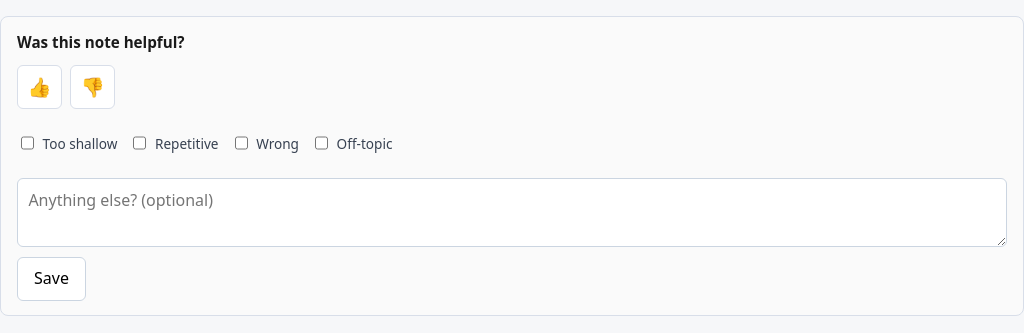
Test: NoteFeedback › saves a thumbs-down rating with a tag and comment
The width and height of the screenshot is (1024, 333).
Step 1. Click the button "👎" → point(93, 86), box [70,64,115,108]
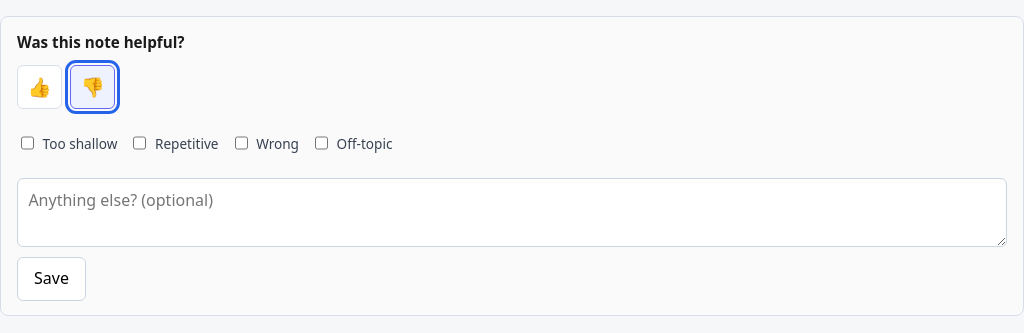
Step 2. Click the checkbox labelled "Too shallow" → point(28, 143), box [21,121,34,165]
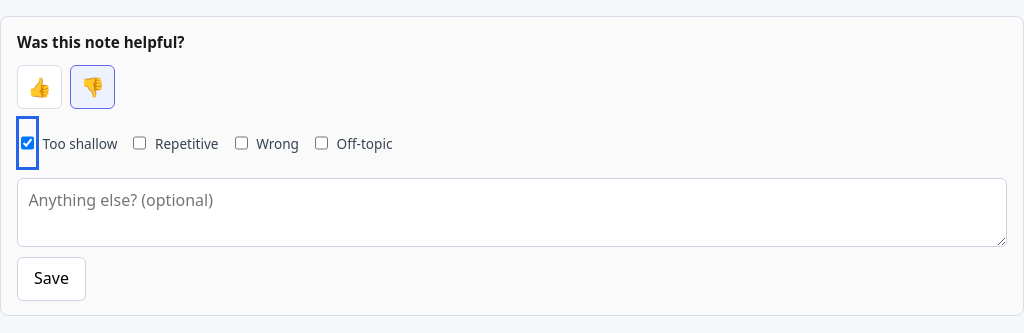
Step 3. Type "needs more depth" into the text box named "feedback comment" → point(512, 212), box [17,178,1007,247]
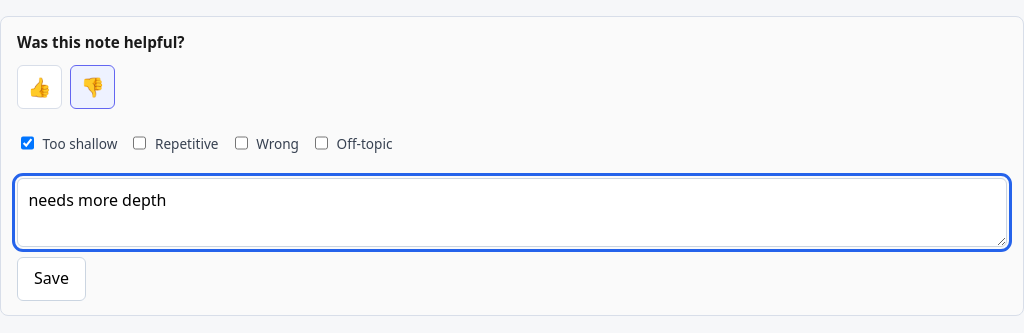
Step 4. Click the button "Save" → point(51, 279), box [17,256,86,301]
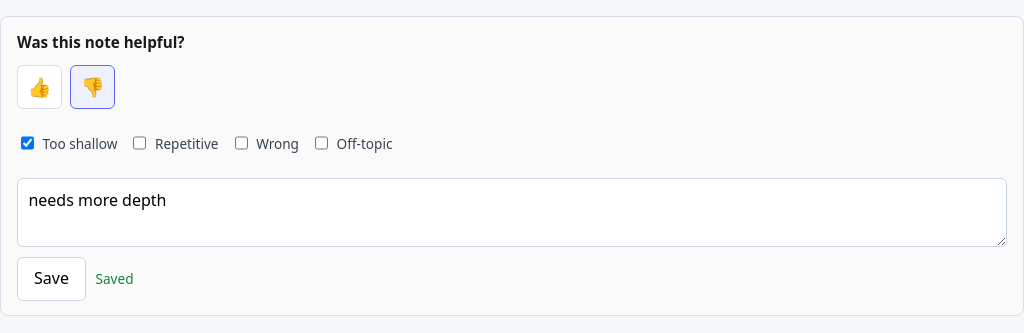
Now the text "Saved" is shown, box [96,268,134,289]
